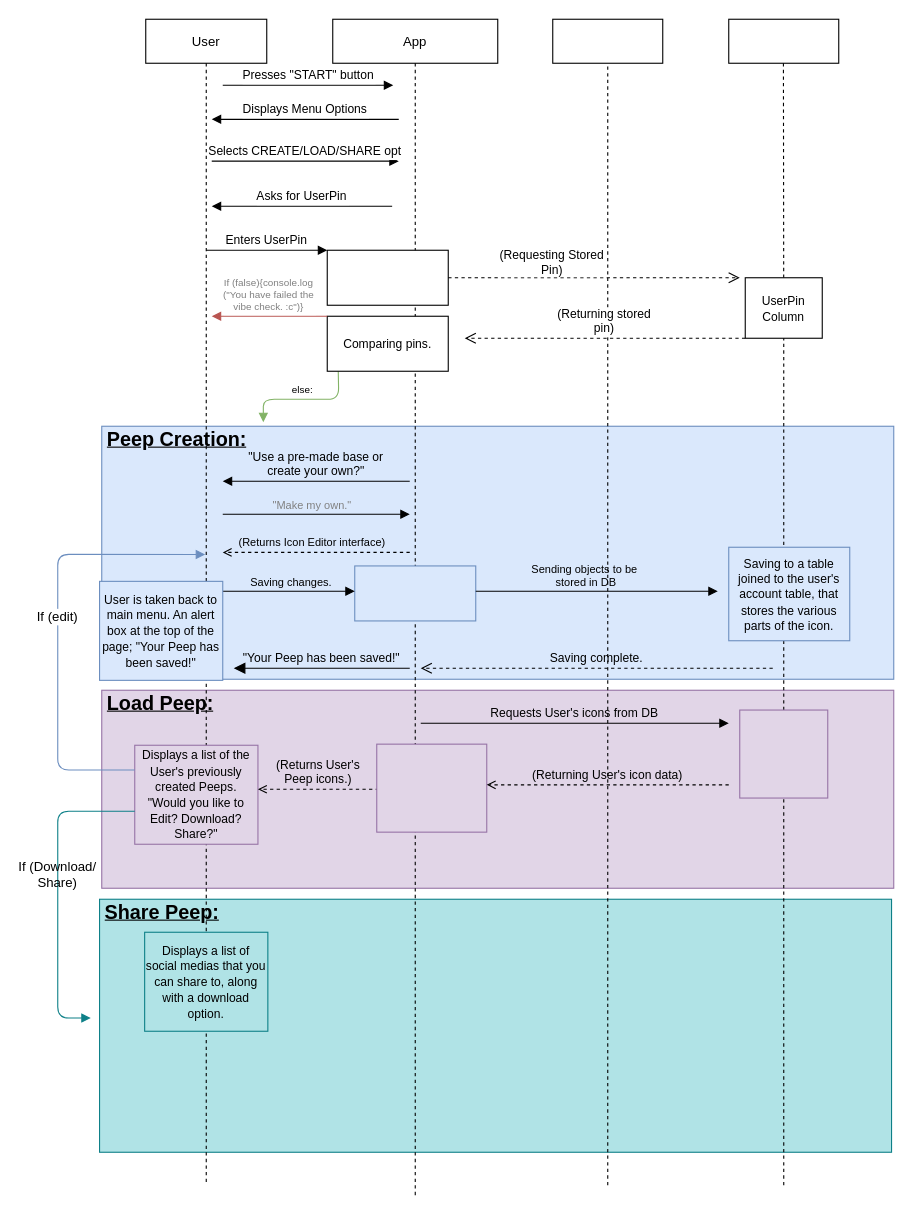
The diagram is 913 pixels wide and 1216 high, and some of its shapes have lost their labels. Each missing label, with the centre of its shape:
Asks DB for stored userPin to match with user's input.: (387,277)
Converting data into JSON objects to be stored in DB.: (415,593)
Converting JSON objects back into data that can be displayed via HTML elements.: (431,787)
Database: (783,40)
Server: (607,40)
User's account table, that is joined to User's icon table.: (783,753)
